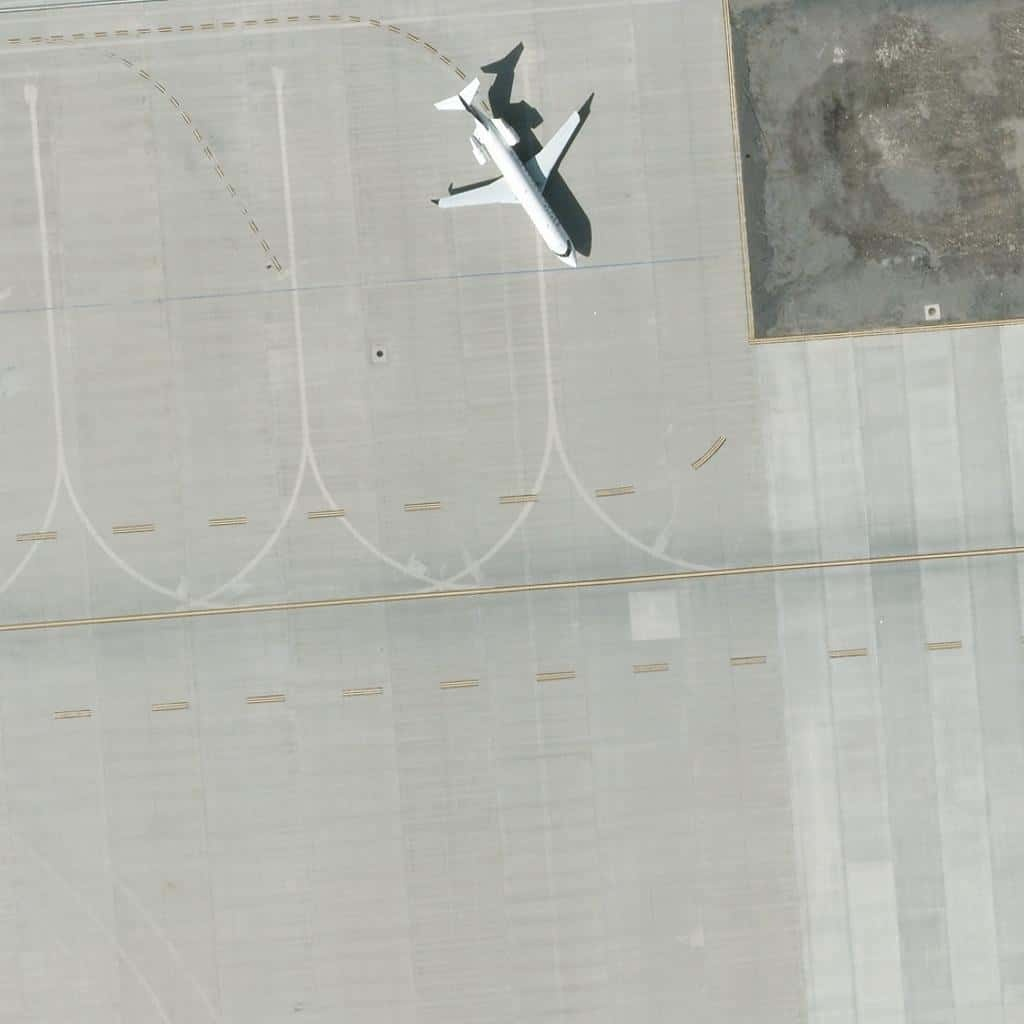plane: (426, 72, 599, 272)
